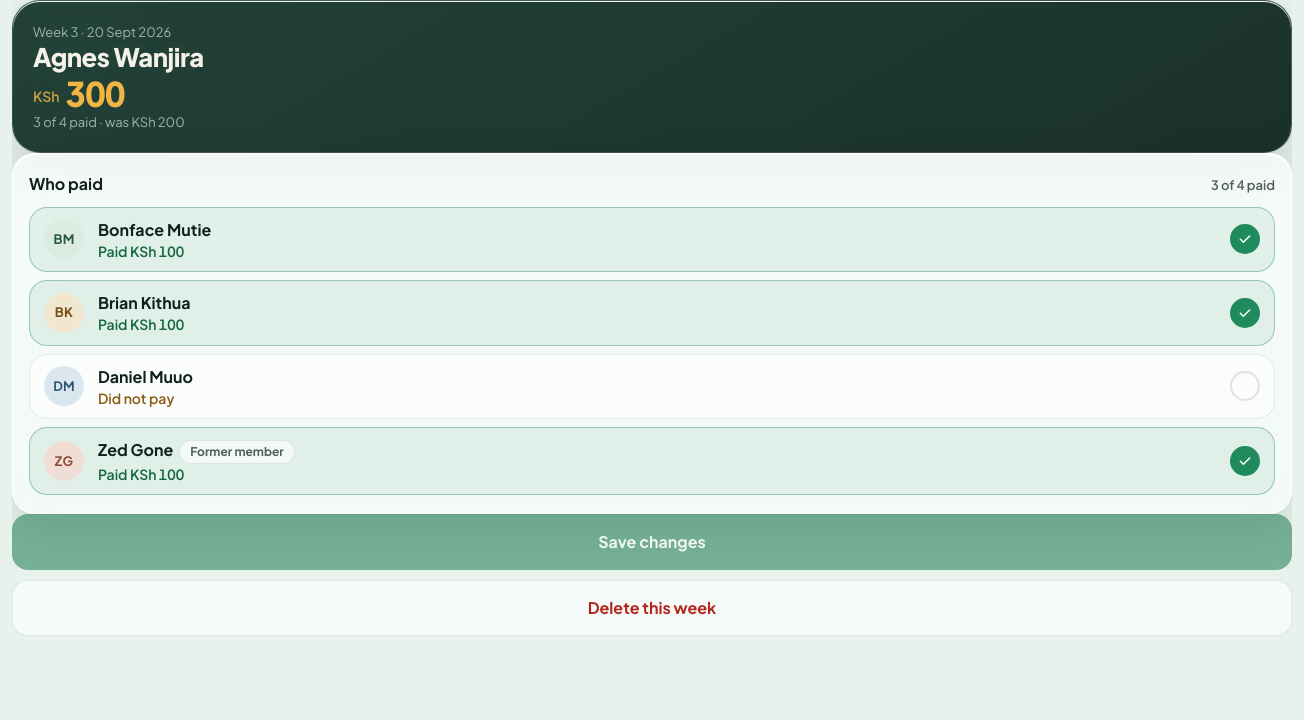
WeekEditor: correcting a past week › keeps Save off until something changes, and does not save by itself
Expected: the button "Save changes" is disabled, [12,514,1292,570]
What coordinates should you click on to do the following:
click the button with class "toggle" showing "DM Daniel Muuo Did not pay"
I would click on:
 (64, 386)
Its box is [29,354,1275,419].
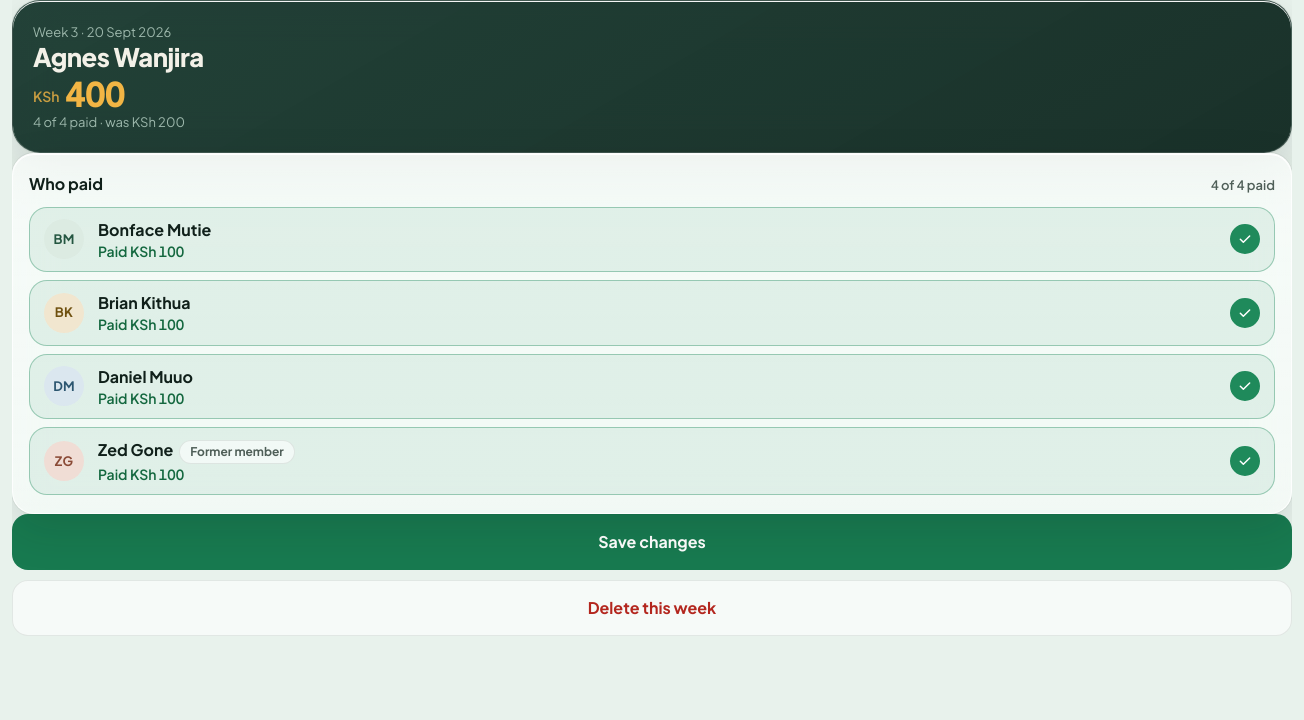
Expected: the button "Save changes" is enabled, [12,514,1292,570]
